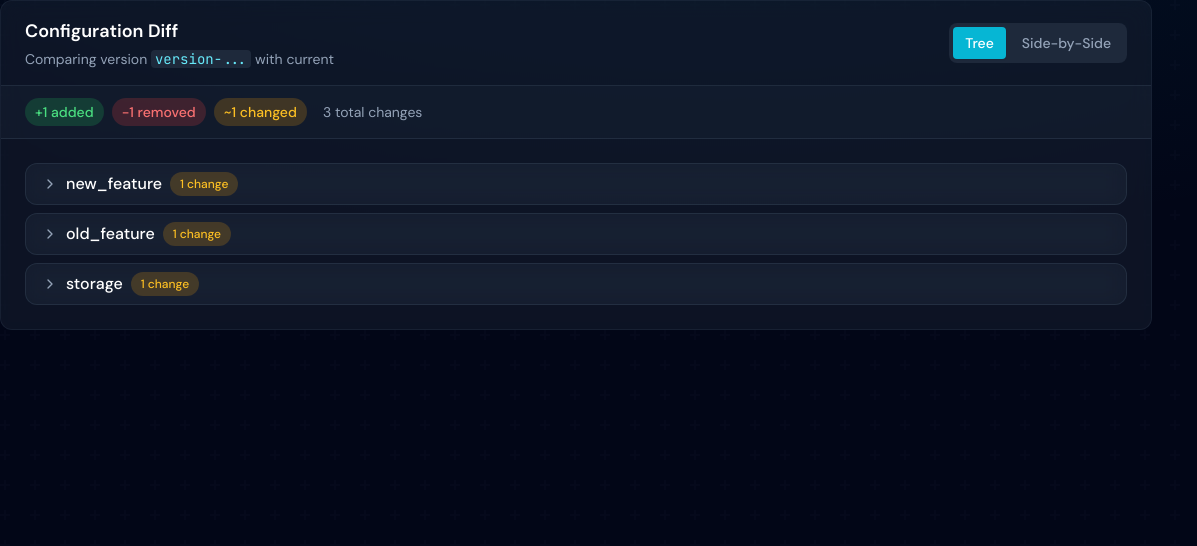
Test case: ConfigDiff › displays changed values
In tree view, we need to expand the section first
Click the button "storage 1 change" at (94,284), box x1=26 y1=264 x2=1126 y2=304
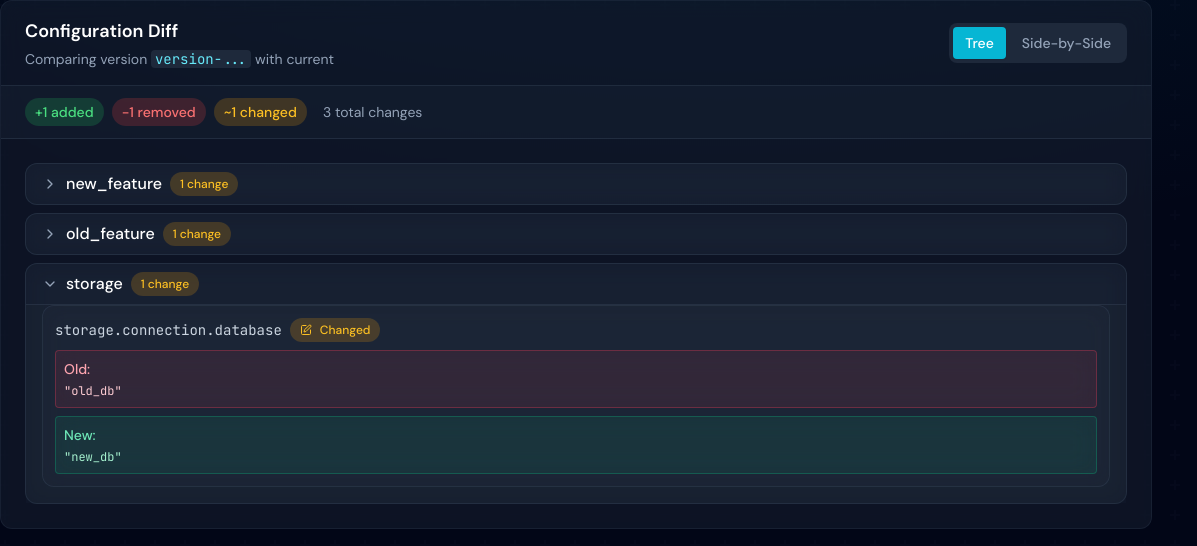
Now the text "storage.connection.database" is shown, box x1=55 y1=320 x2=282 y2=340
